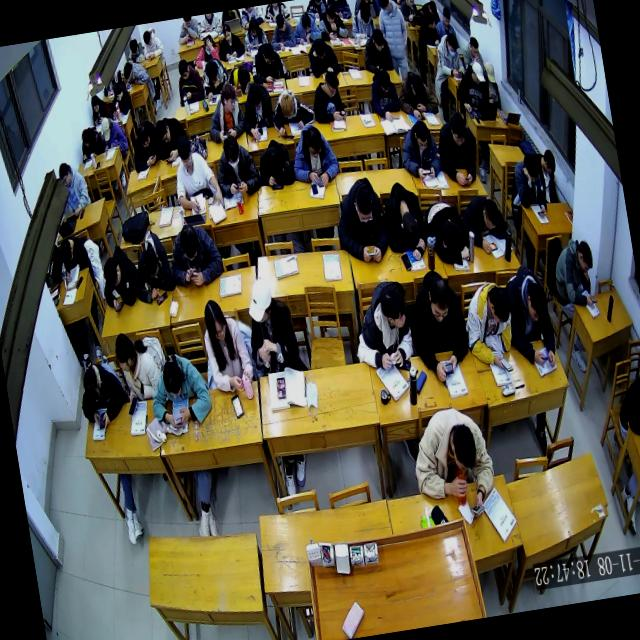bow: (499, 260, 560, 374), (144, 348, 216, 434), (378, 178, 432, 266), (126, 225, 179, 308), (76, 358, 132, 432), (422, 197, 474, 270), (459, 191, 512, 259), (97, 242, 144, 314), (394, 68, 440, 125), (268, 84, 318, 136), (254, 136, 297, 192), (152, 112, 192, 167), (127, 116, 163, 176), (305, 34, 341, 80), (198, 56, 231, 102), (290, 8, 322, 46), (224, 62, 256, 98), (192, 32, 222, 69), (120, 58, 150, 90), (125, 35, 146, 66)
down: (446, 420, 481, 475), (424, 271, 455, 325), (522, 280, 551, 326), (202, 298, 230, 344), (486, 282, 514, 326), (160, 358, 187, 402), (178, 222, 203, 264), (352, 184, 376, 226), (80, 366, 103, 406), (302, 123, 326, 161), (174, 132, 196, 173), (262, 145, 286, 180), (220, 133, 242, 171), (448, 110, 470, 148), (480, 197, 502, 234), (574, 240, 596, 276), (141, 246, 163, 280), (102, 256, 124, 290), (412, 120, 432, 154), (522, 152, 541, 186), (246, 82, 266, 114), (322, 69, 342, 101), (153, 116, 172, 146), (58, 238, 76, 268), (278, 92, 296, 122), (408, 72, 426, 102), (135, 122, 153, 152), (540, 148, 558, 178), (56, 160, 73, 190), (204, 59, 221, 86), (371, 26, 387, 54), (470, 59, 486, 87), (444, 31, 460, 59), (377, 68, 393, 94), (261, 42, 277, 67), (312, 36, 328, 61), (482, 60, 498, 85), (235, 65, 252, 88), (358, 3, 373, 28), (176, 58, 191, 82), (274, 10, 289, 34), (324, 2, 338, 27), (100, 116, 112, 143), (80, 128, 94, 150), (440, 6, 453, 29), (469, 36, 481, 60), (112, 81, 125, 103), (122, 60, 135, 81), (376, 0, 392, 17), (222, 22, 234, 44), (300, 14, 312, 36), (90, 94, 102, 115), (203, 35, 215, 56), (248, 16, 260, 37), (128, 36, 140, 56), (142, 28, 154, 46), (405, 0, 417, 9)
sit: (406, 402, 502, 526), (404, 264, 476, 388), (347, 274, 420, 374), (239, 272, 305, 379), (458, 276, 521, 376), (198, 294, 258, 398), (331, 173, 394, 267), (167, 128, 226, 217), (163, 217, 226, 292), (112, 325, 165, 405), (548, 235, 600, 312), (432, 108, 480, 191), (286, 120, 342, 191), (211, 130, 263, 200), (374, 0, 414, 84), (396, 116, 444, 182), (509, 148, 551, 222), (202, 80, 248, 146), (236, 78, 278, 144), (452, 58, 492, 116), (56, 157, 92, 220), (308, 68, 347, 124), (367, 66, 402, 124), (248, 40, 289, 88), (359, 24, 395, 76), (434, 30, 467, 85), (56, 232, 92, 282), (613, 372, 640, 438), (173, 56, 206, 108), (534, 146, 562, 204), (315, 0, 350, 43), (214, 19, 246, 62), (266, 9, 298, 52), (98, 113, 128, 154), (481, 59, 504, 112), (347, 2, 377, 41), (106, 79, 134, 119), (240, 15, 270, 52), (77, 124, 105, 163), (416, 10, 442, 50), (140, 24, 166, 62), (432, 5, 458, 40), (88, 91, 112, 126), (460, 34, 484, 68), (397, 0, 420, 24)
